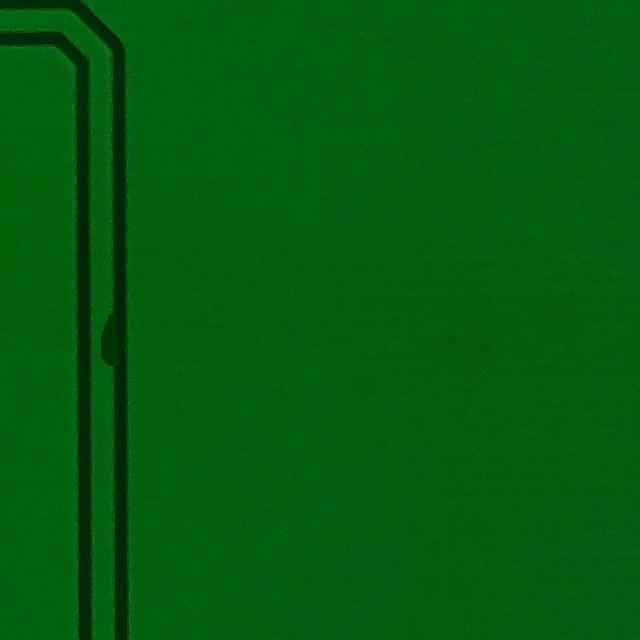mouse_bite: (82, 302, 125, 386)
